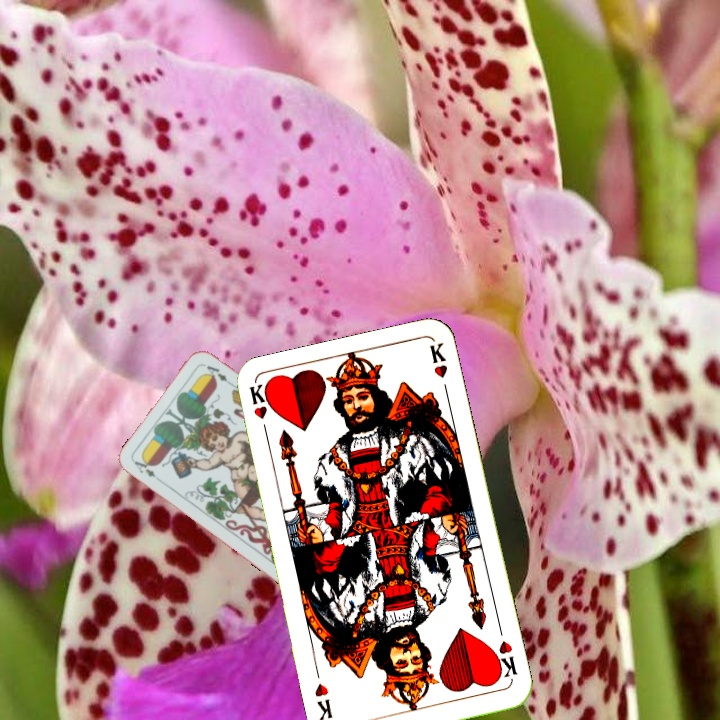EA: (130, 456, 158, 480)
HK: (245, 381, 271, 441), (489, 637, 520, 683)
